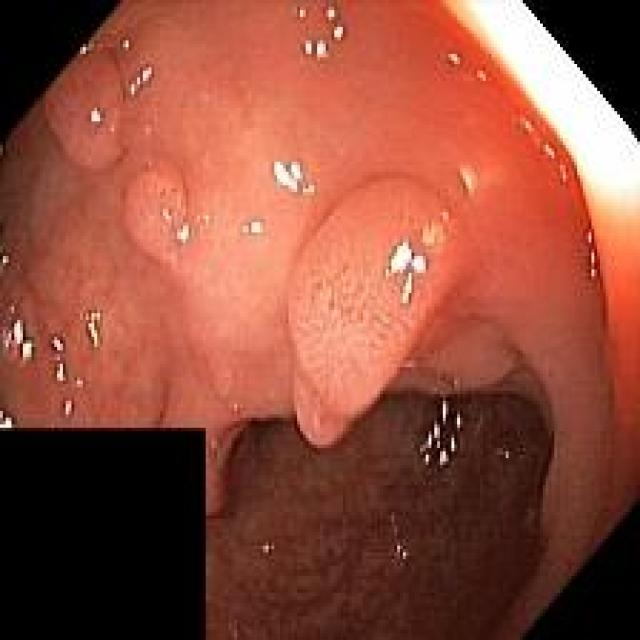Polyps: (289, 178, 455, 446), (44, 49, 125, 170), (418, 315, 519, 391), (124, 156, 190, 262)
